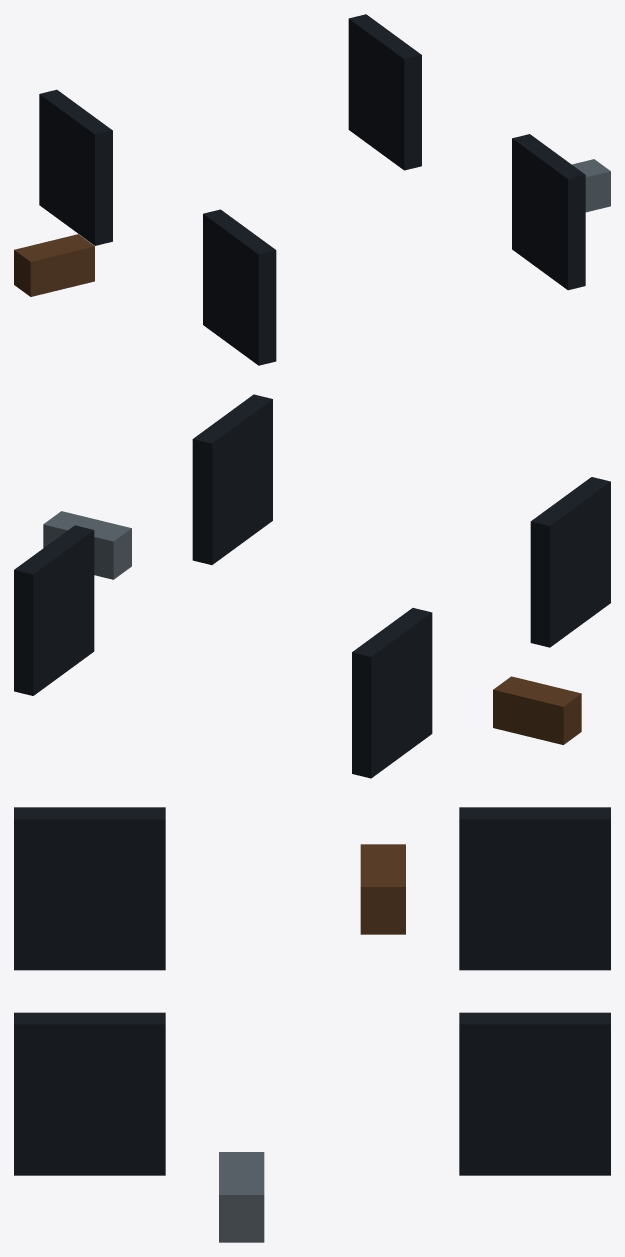
The model's file is module.hallway_double_subroom.glb.
3 renders of one model, top to bottom at view 1: azimuth 30°, elevation 25°; view 2: azimuth 150°, elevation 25°; view 3: azimuth 270°, elevation 25°, orthographic. The views are drawn at different scales.
Visible parts, largest first — view 1: left_near_jamb, left_far_jamb, right_near_jamb, right_far_jamb, left_room_cover, right_room_cover; view 2: left_near_jamb, left_far_jamb, right_near_jamb, right_far_jamb, left_room_cover, right_room_cover; view 3: left_near_jamb, left_far_jamb, right_near_jamb, right_far_jamb, left_room_cover, right_room_cover.
Boxes of the visible parts, x1=… form: left_near_jamb: x1=203, y1=209, x2=276, y2=365; left_far_jamb: x1=39, y1=89, x2=112, y2=245; right_near_jamb: x1=512, y1=134, x2=585, y2=290; right_far_jamb: x1=348, y1=14, x2=421, y2=170; left_room_cover: x1=14, y1=234, x2=94, y2=296; right_room_cover: x1=572, y1=159, x2=610, y2=212; left_near_jamb: x1=530, y1=477, x2=610, y2=647; left_far_jamb: x1=352, y1=608, x2=432, y2=778; right_near_jamb: x1=192, y1=394, x2=272, y2=564; right_far_jamb: x1=14, y1=525, x2=94, y2=695; left_room_cover: x1=493, y1=676, x2=581, y2=744; right_room_cover: x1=43, y1=511, x2=131, y2=579; left_near_jamb: x1=14, y1=807, x2=165, y2=970; left_far_jamb: x1=459, y1=807, x2=610, y2=970; right_near_jamb: x1=14, y1=1012, x2=165, y2=1175; right_far_jamb: x1=459, y1=1012, x2=610, y2=1175; left_room_cover: x1=360, y1=844, x2=405, y2=934; right_room_cover: x1=219, y1=1152, x2=264, y2=1242.
Bounding box in the file's own units: 16.4 × 3.3 × 11.8.
